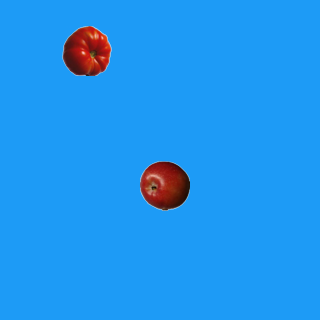Apple Braeburn: (139, 160, 189, 210)
Tomato 3: (61, 25, 111, 75)
